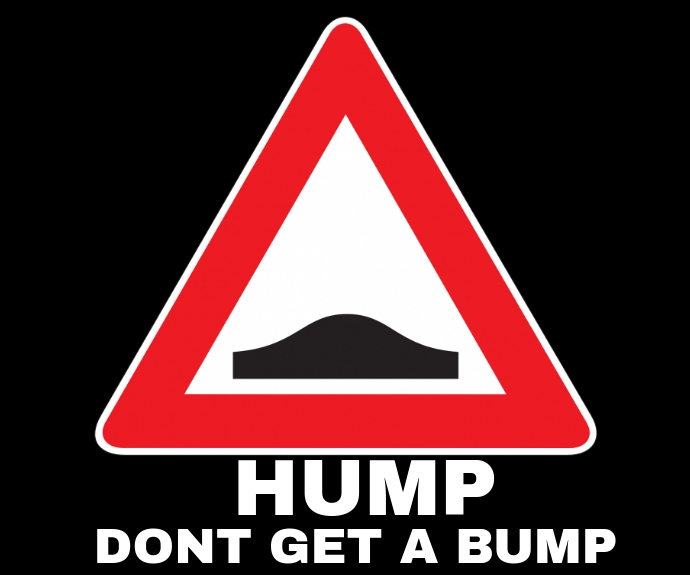speed-breaker: (171, 111, 542, 454)
